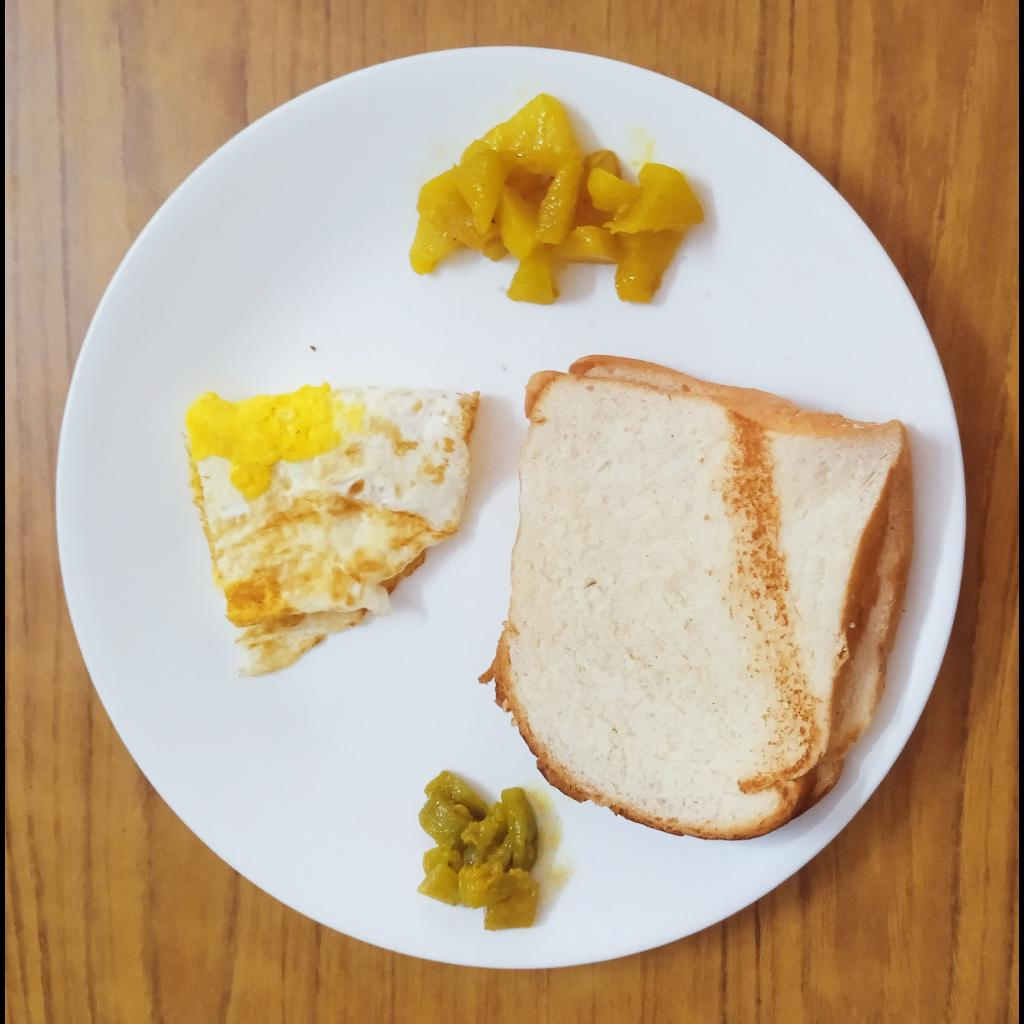bread: (493, 352, 916, 843)
dundol: (418, 768, 542, 929)
egg-poached: (177, 389, 482, 682)
kumra-vaji: (412, 93, 708, 303)
